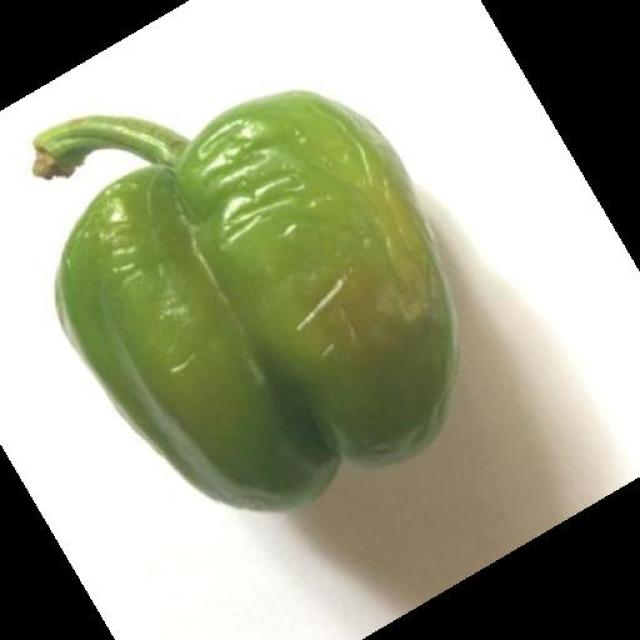Stale_Capsicum: (190, 130, 407, 436)
